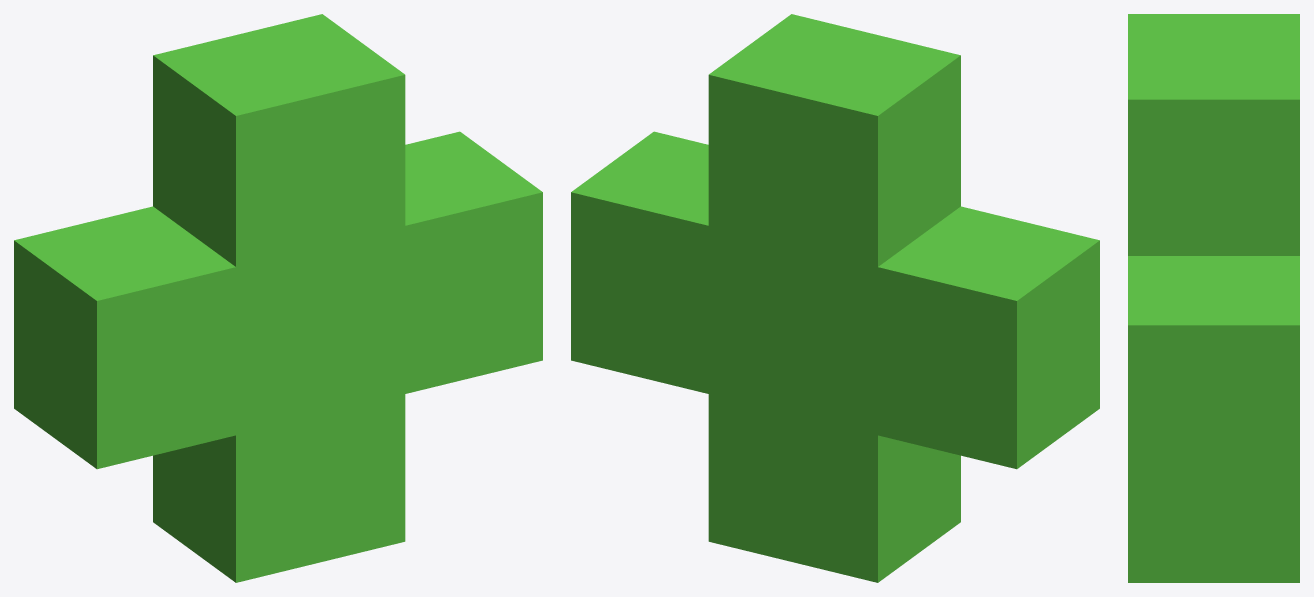
File: Powerup_life.fbx
3 renders of one model, left to right at view 1: azimuth 30°, elevation 25°; view 2: azimuth 150°, elevation 25°; view 3: azimuth 270°, elevation 25°, orthographic. The views are drawn at different scales.
Parts seen in each view (by area): view 1: croix; view 2: croix; view 3: croix.
Boxes of the visible parts, x1,y1,x2,y2 form: croix: [14, 14, 542, 582]; croix: [571, 14, 1099, 582]; croix: [1128, 14, 1299, 582].
Size of the model in its own units: 2.38 by 2.39 by 0.7683.
Materials: 1 (1 with a texture image).
